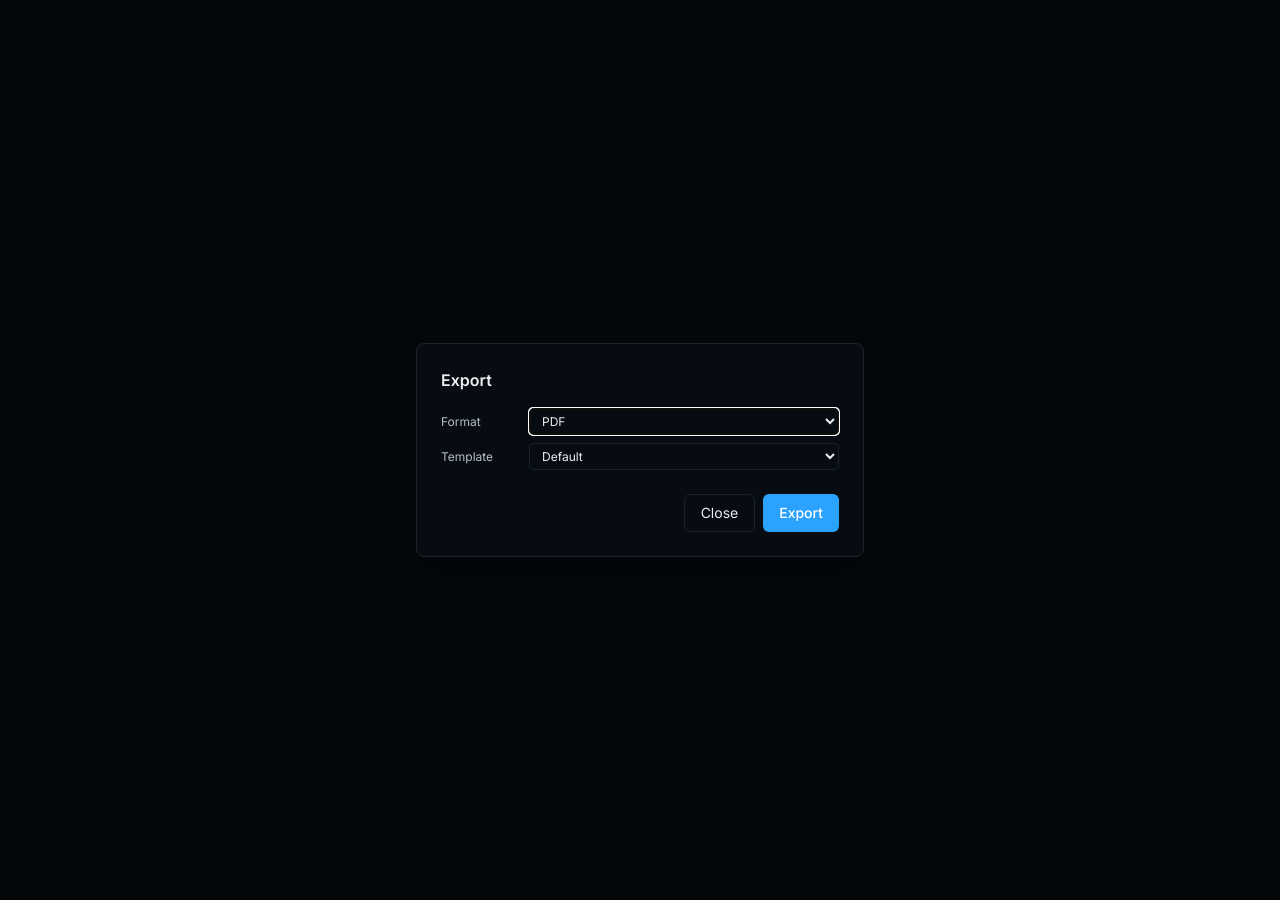
ExportDialog › falls back to the anonymous success message when no outputPath is returned
This screenshot has width=1280, height=900.
Click the button "Export": (801, 513) x1=763 y1=494 x2=839 y2=532
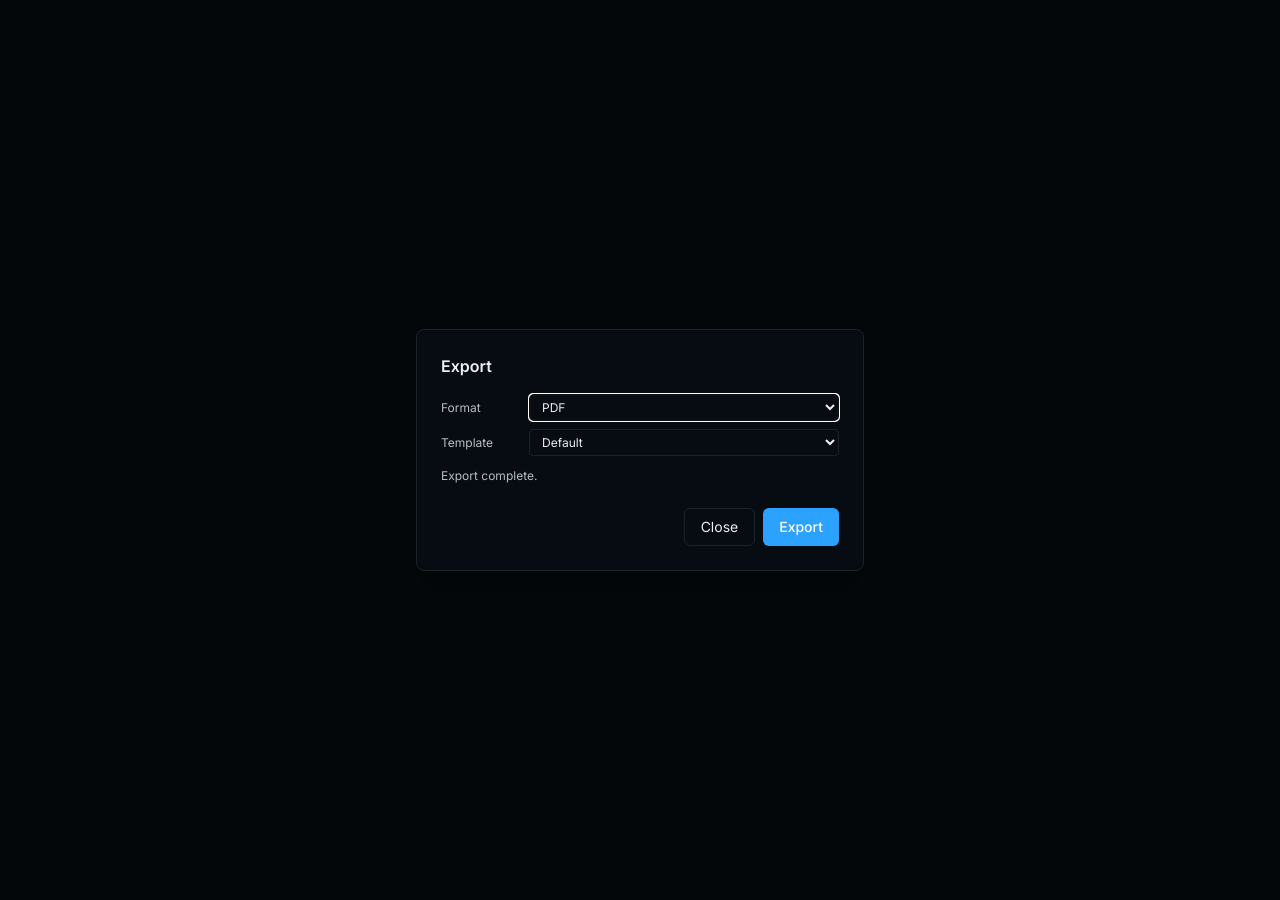
expect the text "Export complete." is shown: met, box x1=441 y1=468 x2=537 y2=483
